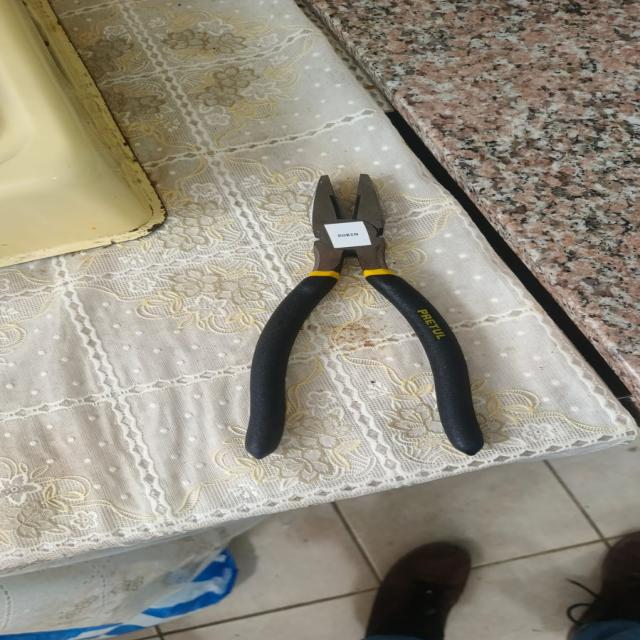alicate: (228, 167, 502, 488)
